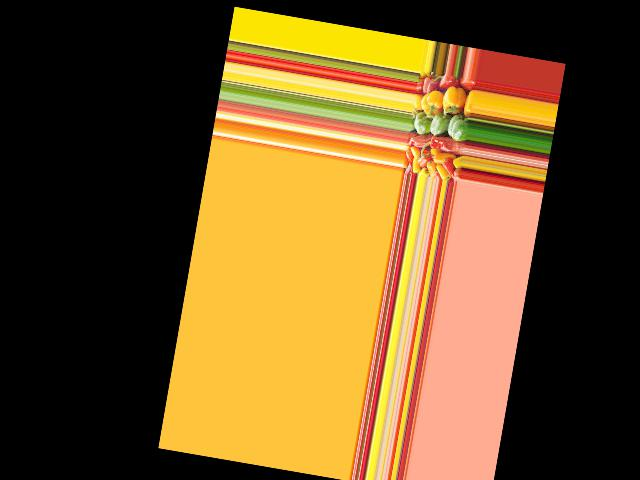bell_pepper: (439, 157, 458, 178)
